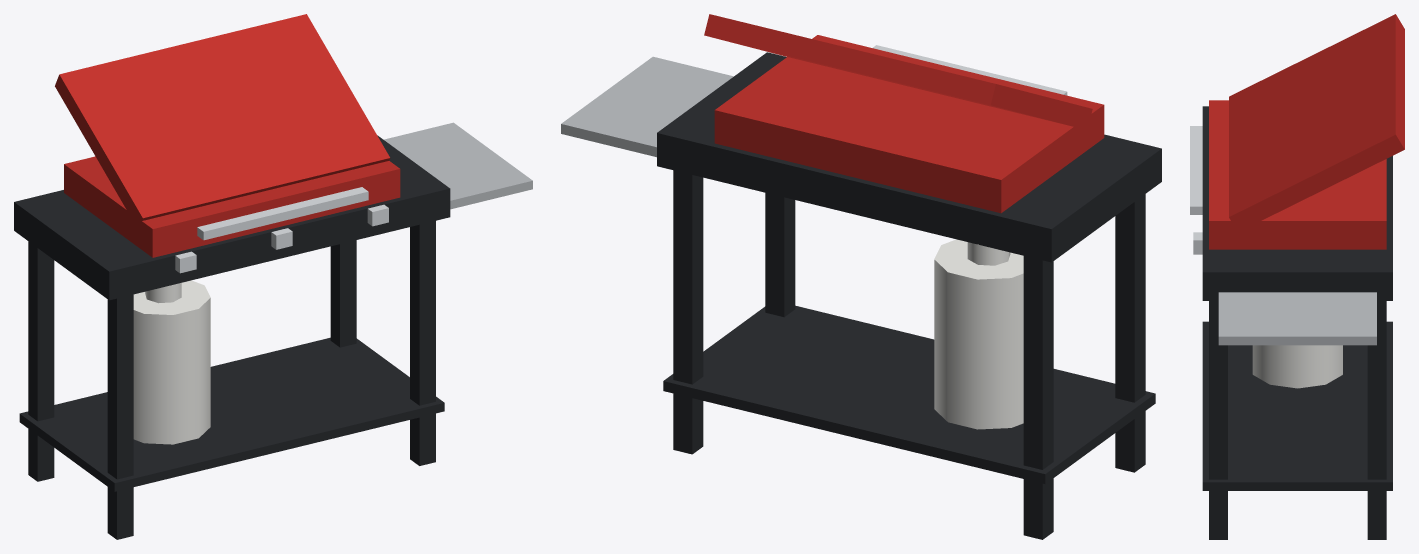
File: sb_bbq_grill.glb
3 views of the same model, side by side, from view 1: azimuth 30°, elevation 25°; view 2: azimuth 150°, elevation 25°; view 3: azimuth 270°, elevation 25° (orthographic). The views are drawn at different scales.
Visible parts, largest first — view 1: sb_bbq_grill; view 2: sb_bbq_grill; view 3: sb_bbq_grill.
Boxes of the visible parts, bbox=[...] form: sb_bbq_grill: bbox=[14, 14, 532, 539]; sb_bbq_grill: bbox=[561, 14, 1161, 539]; sb_bbq_grill: bbox=[1190, 14, 1404, 539].
Bounding box in the file's own units: 1.57 × 1.35 × 0.6777.
